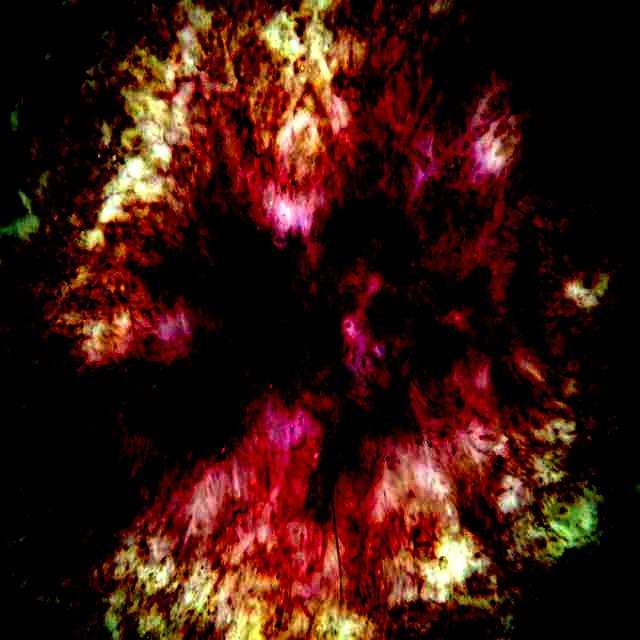BCC: (64, 60, 535, 636)
